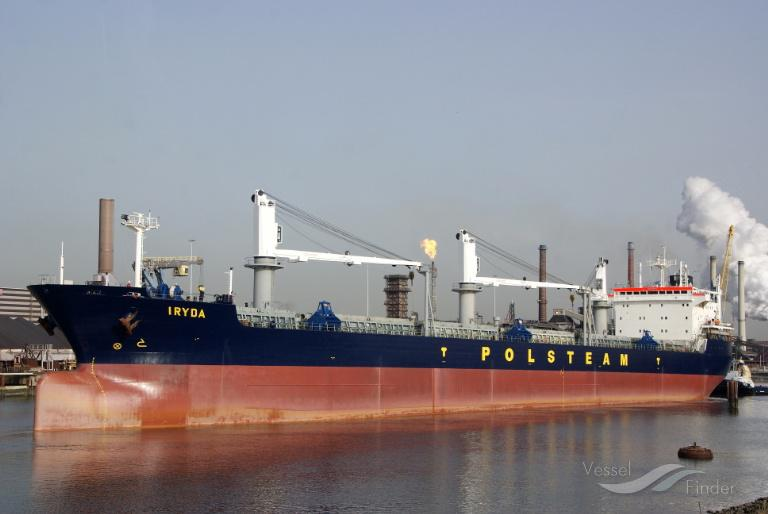OCR: (466, 339, 643, 377), (159, 298, 211, 326)
